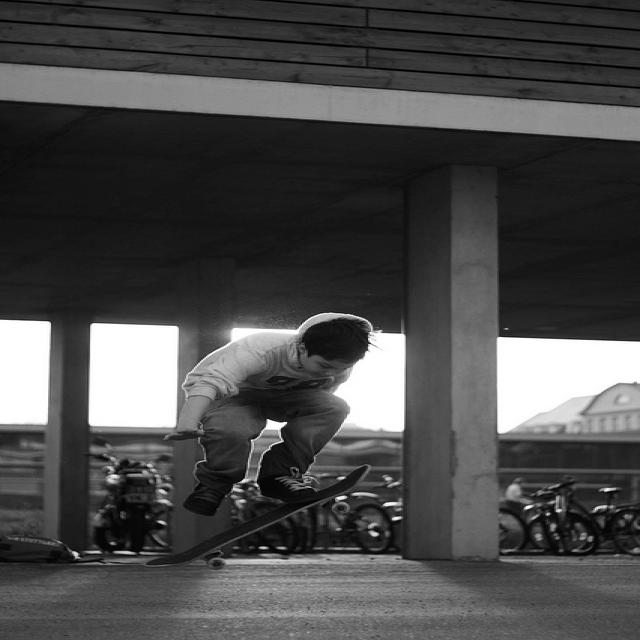motor: (90, 435, 175, 561)
